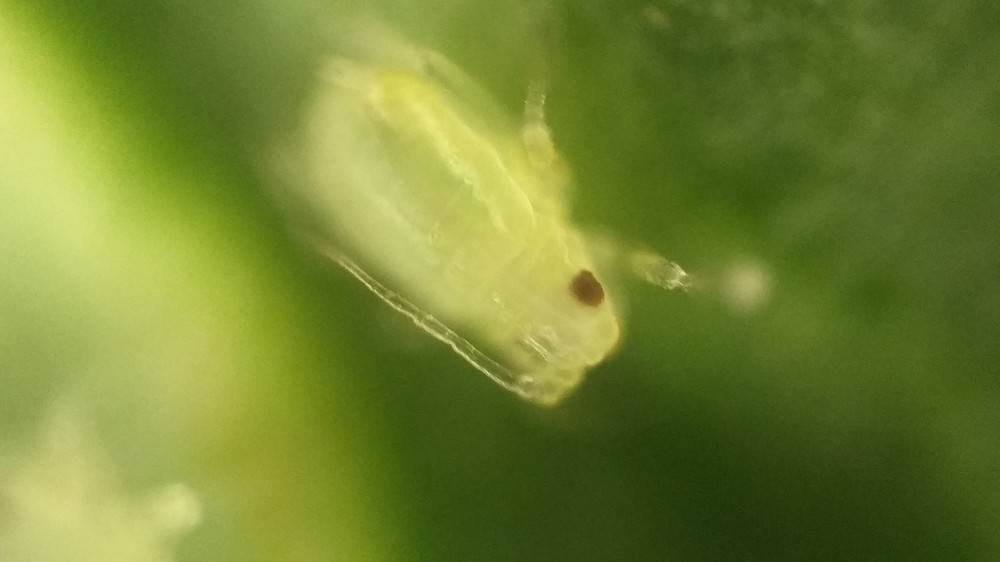Pulgon: (250, 34, 736, 416)
